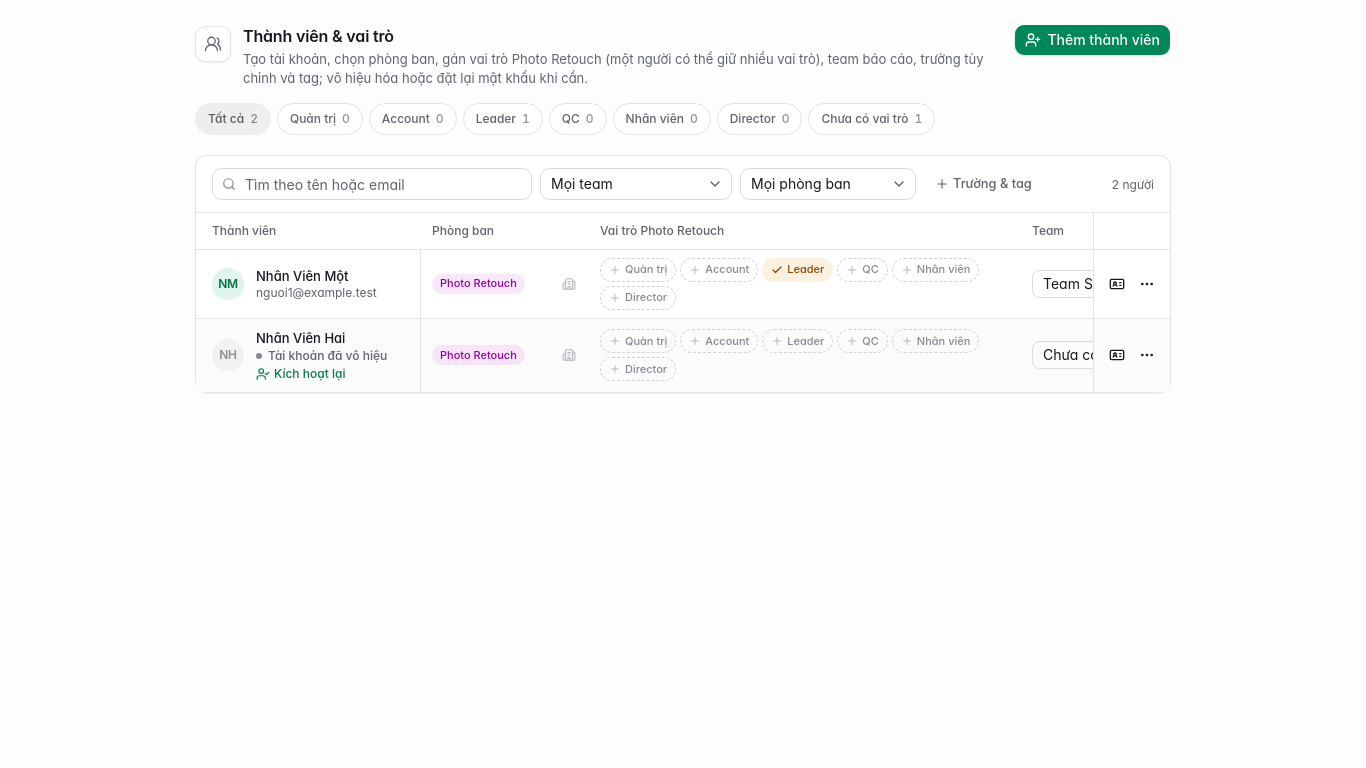
Test case: Cấu hình → Thành viên & vai trò (PD-050) › stays editable for the superadmin
The width and height of the screenshot is (1366, 768).
Check: the text "Nhân Viên Một" is shown, box [256,268,348,284]
Check: the button "Thêm thành viên" is shown, box [1014,24,1171,56]
Click the button named "Tùy chọn tài khoản của Nhân Viên Một": {"x": 1147, "y": 284} [1133,270,1161,298]
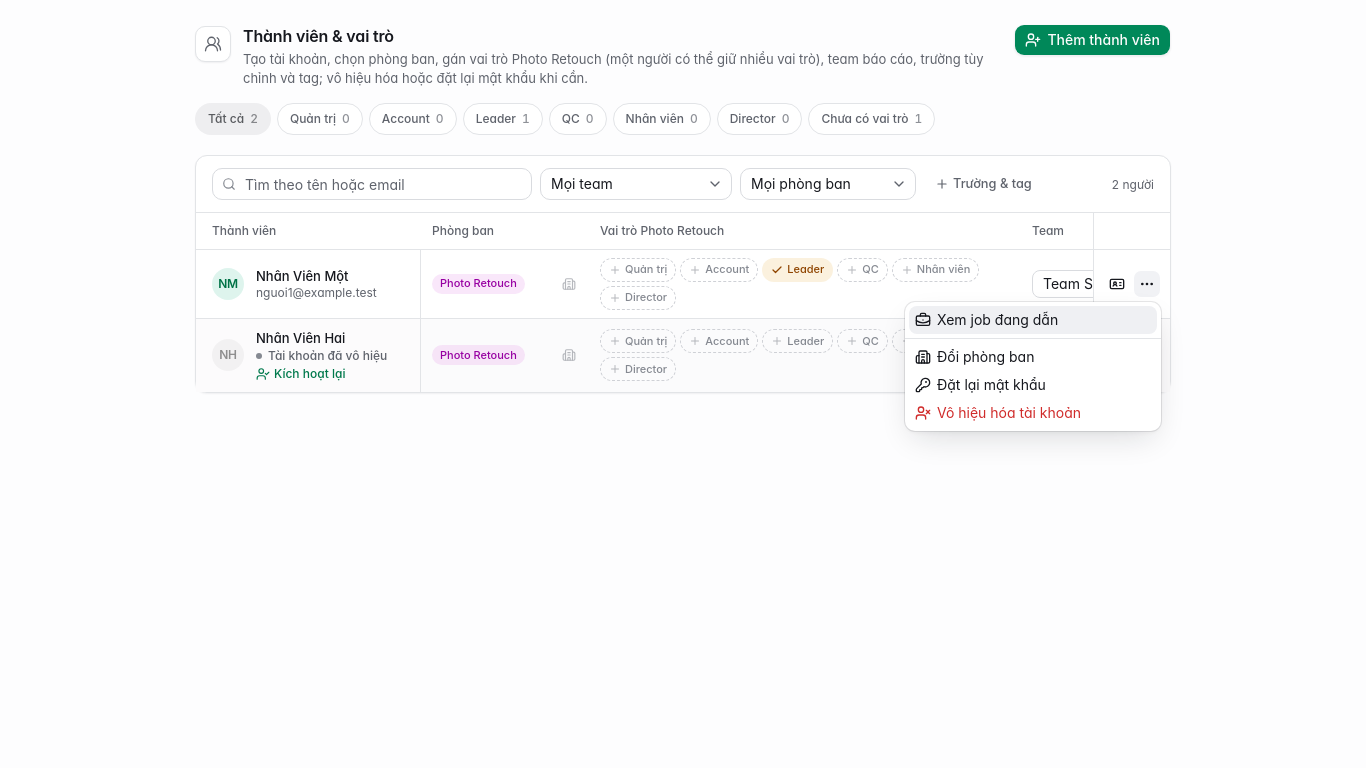
Check: the menu items read "Xem job đang dẫn", "Đổi phòng ban", "Đặt lại mật khẩu", "Vô hiệu hóa tài khoản", in this order, box [909,306,1157,334]; [915,348,1034,365]; [915,376,1046,393]; [915,404,1081,421]
Press Escape in the menu, box [905,302,1161,431]
Click the button named "Hồ sơ Photo Retouch của Nhân Viên Một": {"x": 1117, "y": 284} [1103,270,1131,298]
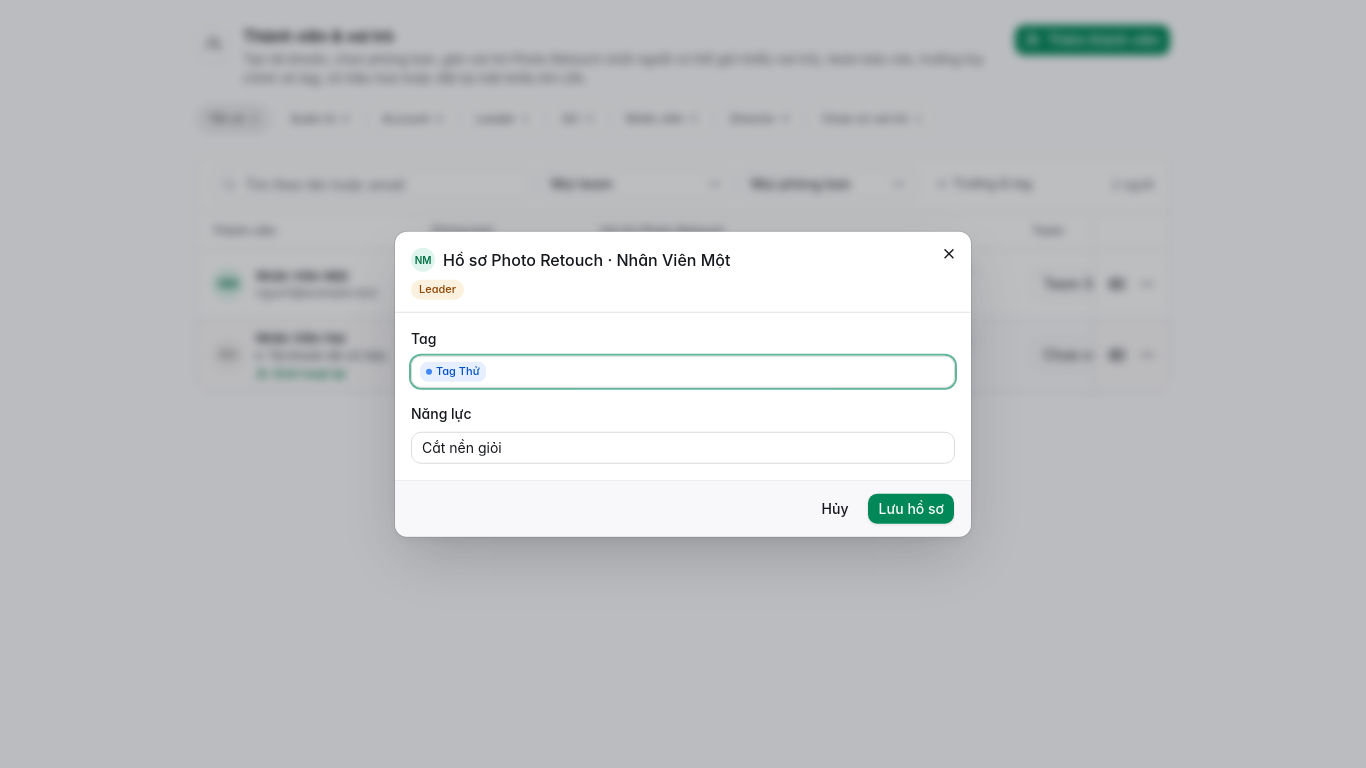
Check: the button "Lưu hồ sơ" is shown, box [868,492,955,524]
